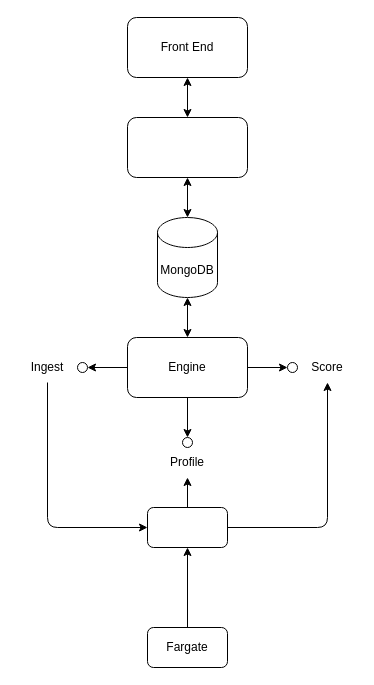
Some shapes in this 374 by 685 pixel diagram are drawn without their labels. The centre of each missing label's shape, as x and y in pixels:
Back End CRUD: the point at 187,147
Lambda: the point at 187,527
